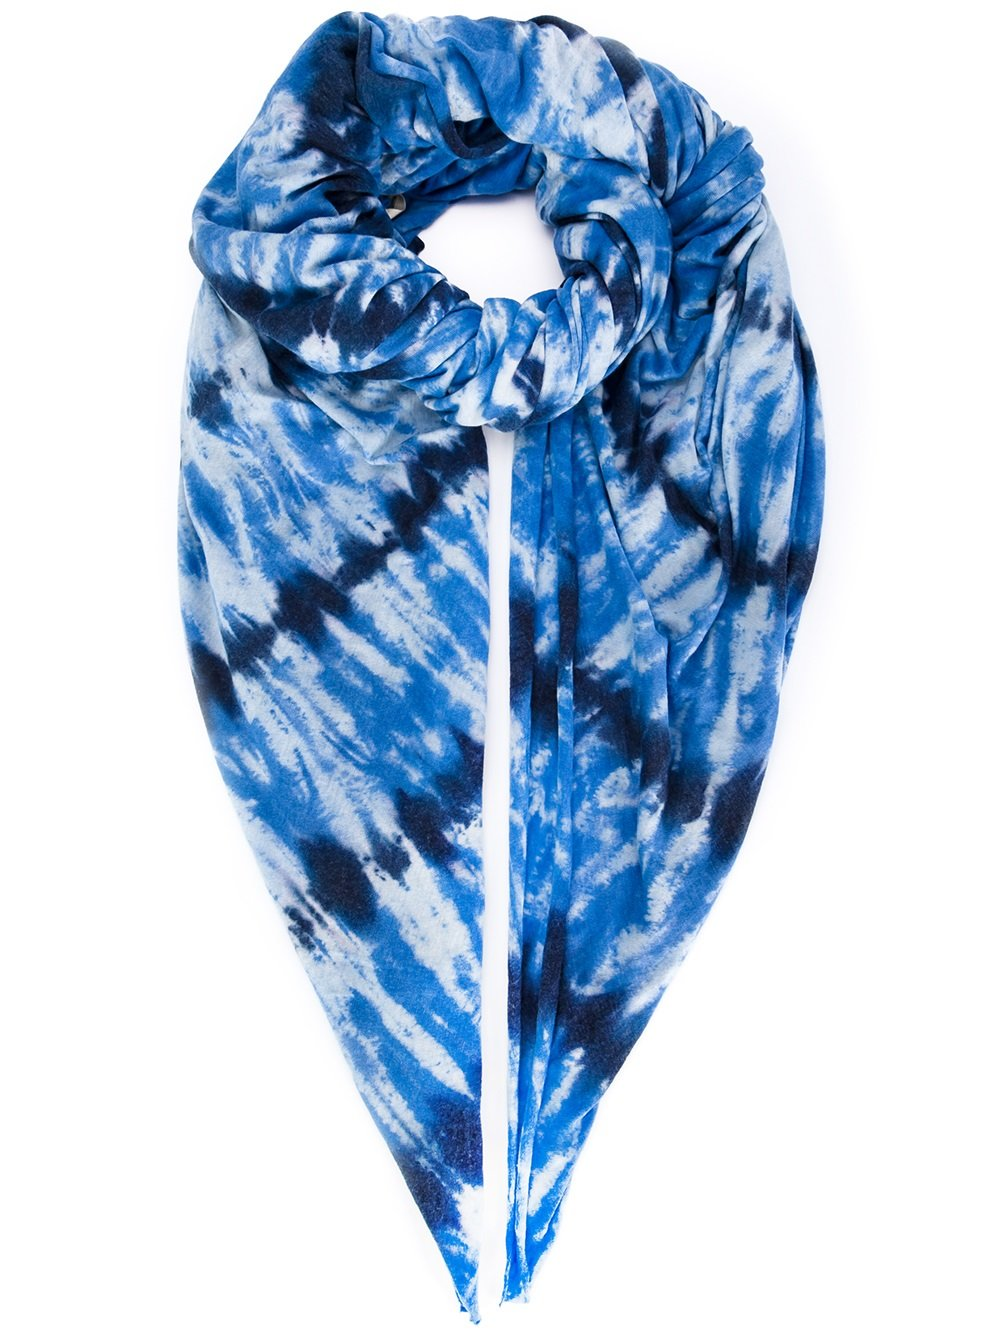flexible: (154, 8, 829, 1333)
